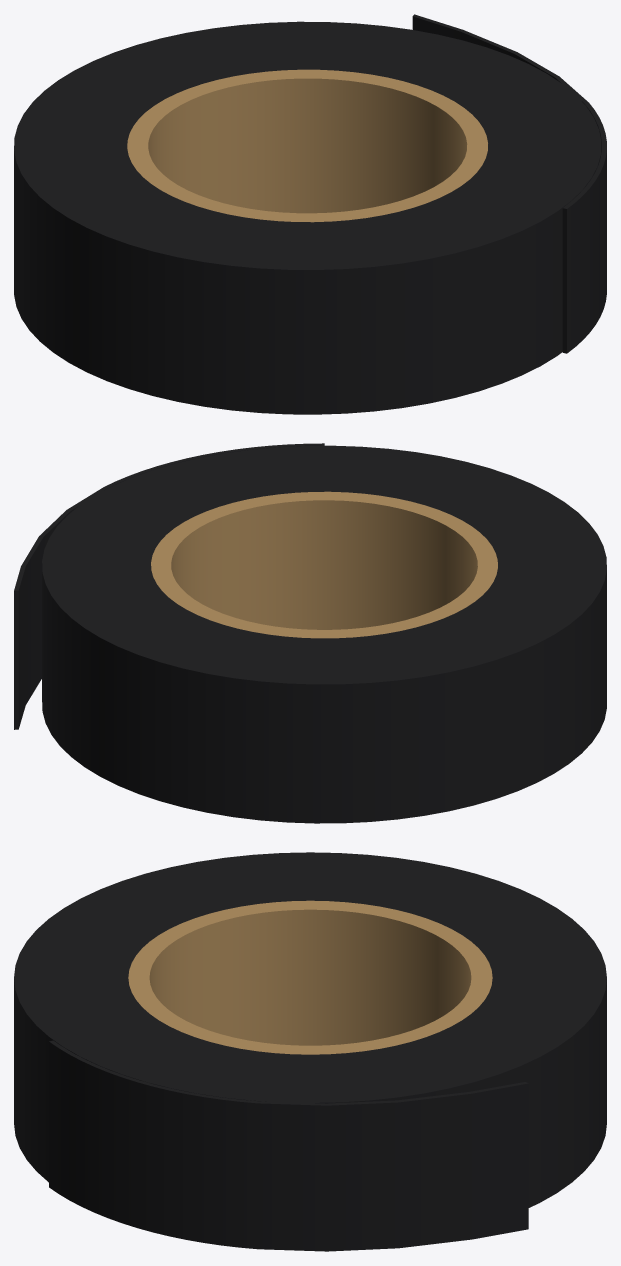
Rendered from fita_isolante_19mm.dae.
The picture shows the model from 3 angles, top to bottom: view 1: azimuth 30°, elevation 25°; view 2: azimuth 150°, elevation 25°; view 3: azimuth 270°, elevation 25°; orthographic projection. The views are drawn at different scales.
Visible parts, largest first — view 1: Fita isolante 19mm (×2); view 2: Fita isolante 19mm (×2); view 3: Fita isolante 19mm (×2).
Part boxes in pixels (x1=…): Fita isolante 19mm (×2): x1=14, y1=14, x2=606, y2=414; Fita isolante 19mm (×2): x1=14, y1=443, x2=606, y2=823; Fita isolante 19mm (×2): x1=14, y1=852, x2=606, y2=1251.
Bounding box in the file's own units: 70.75 × 70 × 19.
